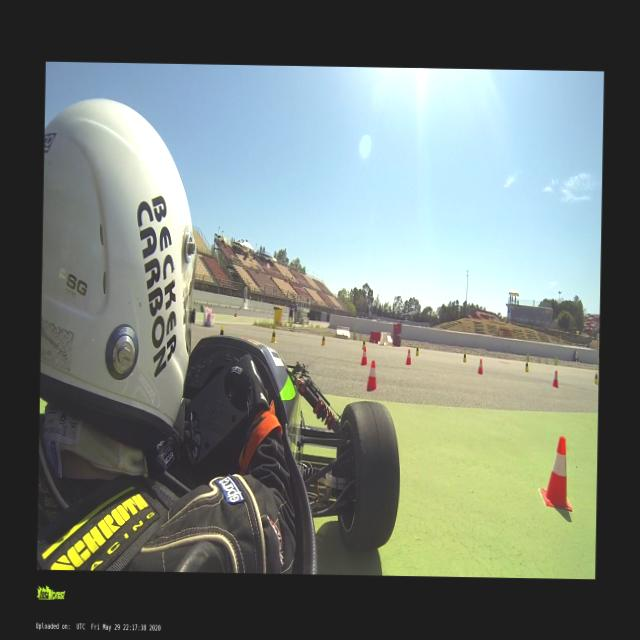orange_cone: (538, 435, 574, 513), (366, 360, 379, 390), (360, 347, 368, 366), (552, 369, 558, 388), (406, 348, 412, 365), (478, 359, 482, 375)
yellow_cone: (318, 334, 326, 346), (270, 328, 276, 343), (592, 372, 598, 385), (462, 350, 467, 362), (524, 360, 528, 372), (415, 345, 419, 356), (361, 338, 365, 349), (220, 326, 224, 335)
